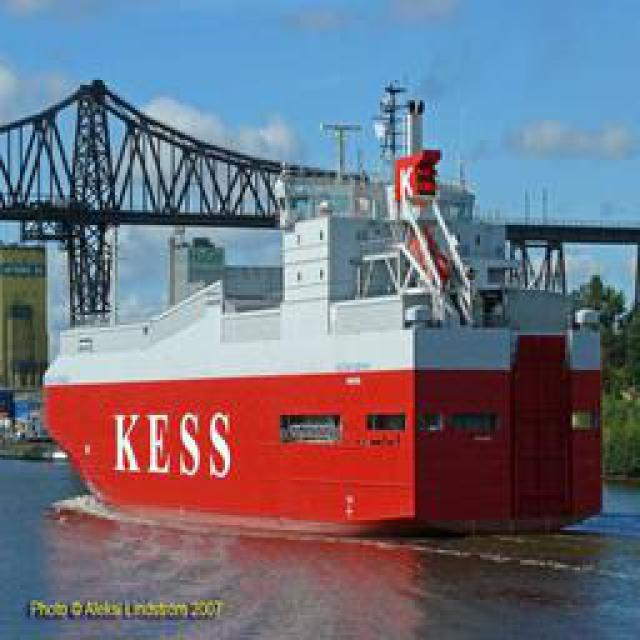Ship: (20, 79, 626, 549)
